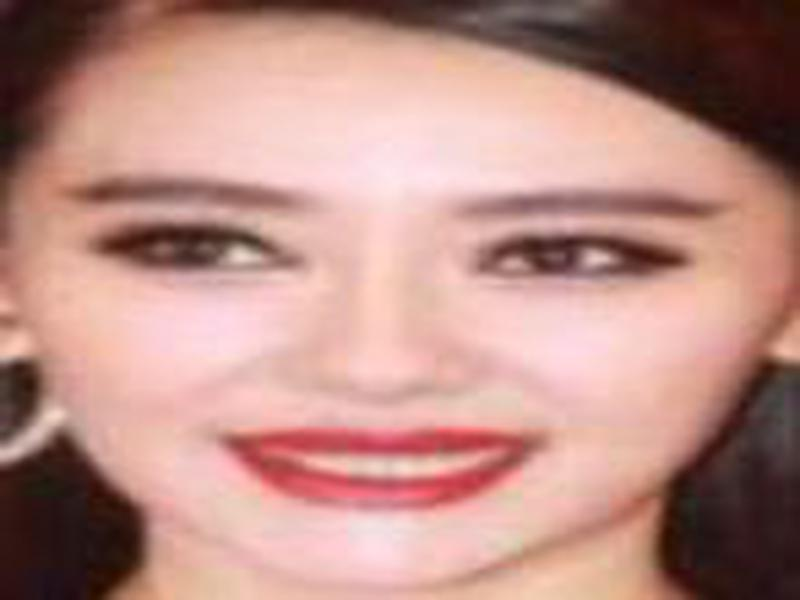without_mask: (17, 67, 789, 595)
